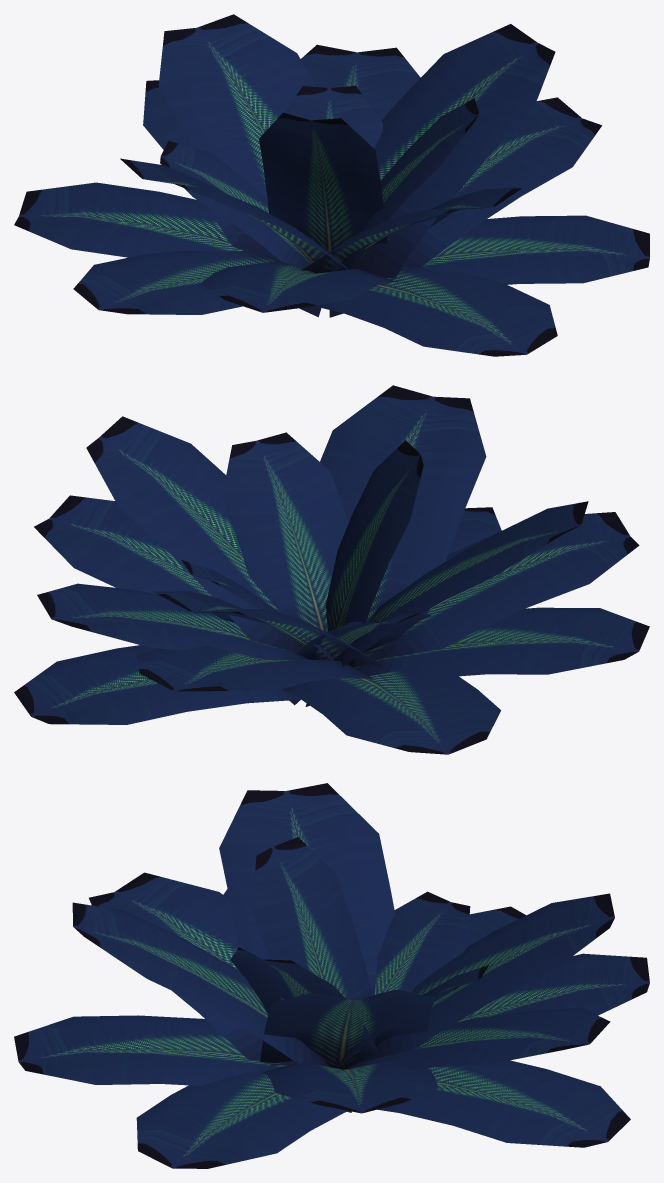
The model's file is VEG0410002.fbx.
3 renders of one model, top to bottom at view 1: azimuth 30°, elevation 25°; view 2: azimuth 150°, elevation 25°; view 3: azimuth 270°, elevation 25°, orthographic. The views are drawn at different scales.
Visible parts, largest first — view 1: smVEG0410002; view 2: smVEG0410002; view 3: smVEG0410002.
Part boxes in pixels (x1,y1,x2,y2): smVEG0410002: (14,14,649,356); smVEG0410002: (14,385,649,754); smVEG0410002: (14,783,649,1168).
Size of the model in its own units: 240 by 87.64 by 243.
Materials: 1 (1 with a texture image).
